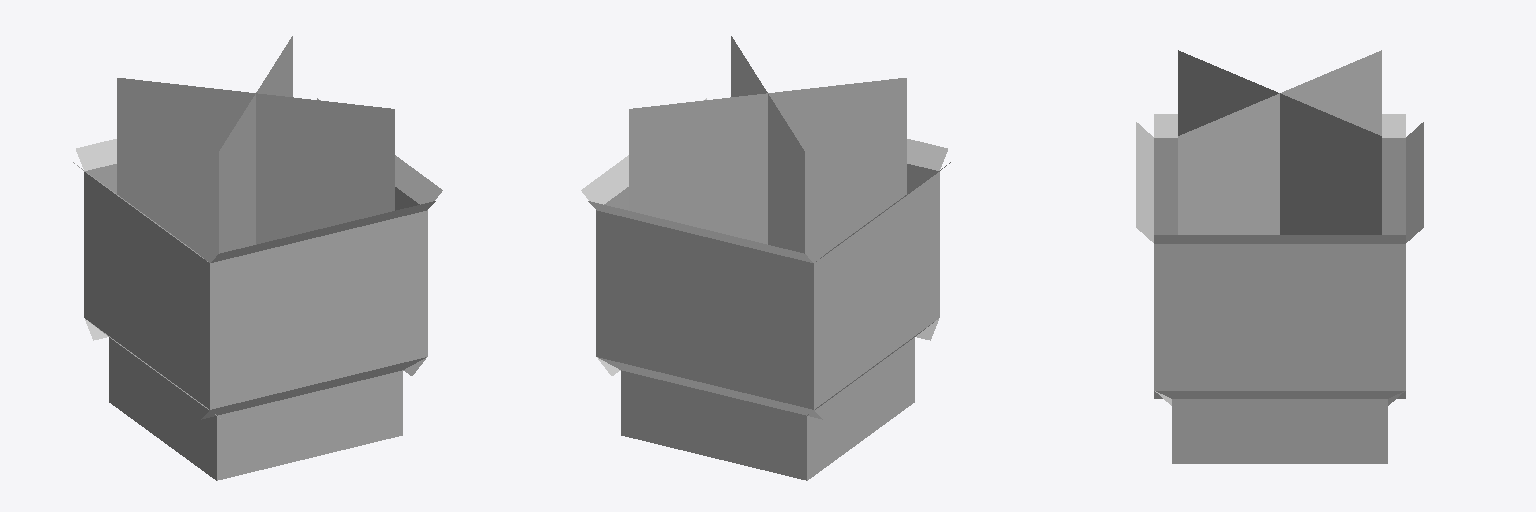
Rendered from campfire.obj.
The picture shows the model from 3 angles: view 1: azimuth 30°, elevation 25°; view 2: azimuth 150°, elevation 25°; view 3: azimuth 270°, elevation 25°; orthographic projection.
Visible parts, largest first — view 1: cube.001, Plane; view 2: cube.001, Plane; view 3: cube.001, Plane.
Part boxes in pixels (x1,y1,x2,y2): cube.001: (73,98,442,480); Plane: (117,36,394,262); cube.001: (581,98,950,480); Plane: (629,36,906,262); cube.001: (1136,114,1423,463); Plane: (1178,50,1381,234).
Size of the model in its own units: 1 by 1.25 by 1.